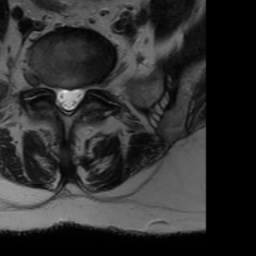CCS_normal: (63, 78, 72, 121)
LFS_stenosis: (83, 73, 94, 101)
LLS_normal: (72, 78, 83, 114)
RFS_severe_stenosis: (43, 72, 53, 101)
RLS_normal: (53, 77, 63, 115)
